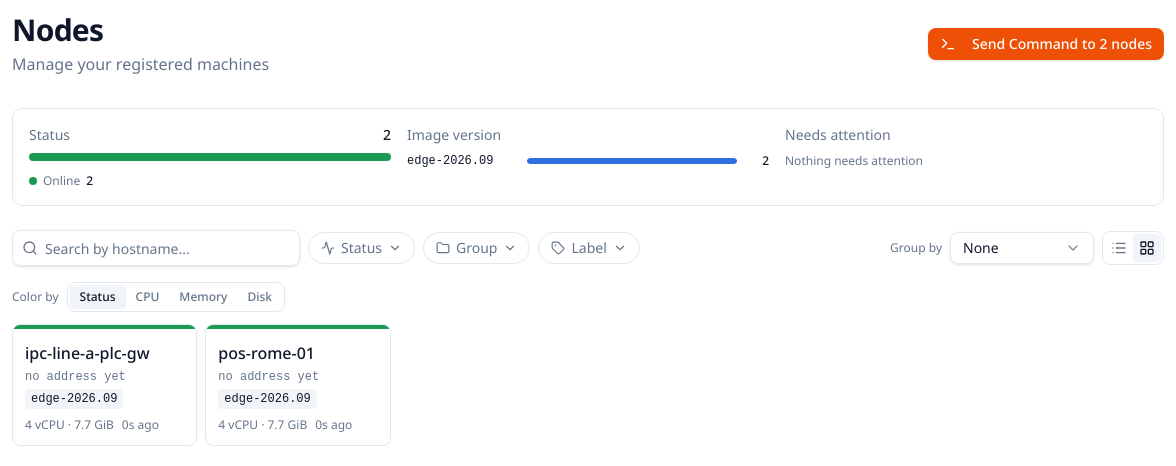
Test: node list with metrics › colors tiles by CPU with the danger tone at 91%
Click the radio button labelled "CPU" at (148,297), box [126, 285, 169, 309]
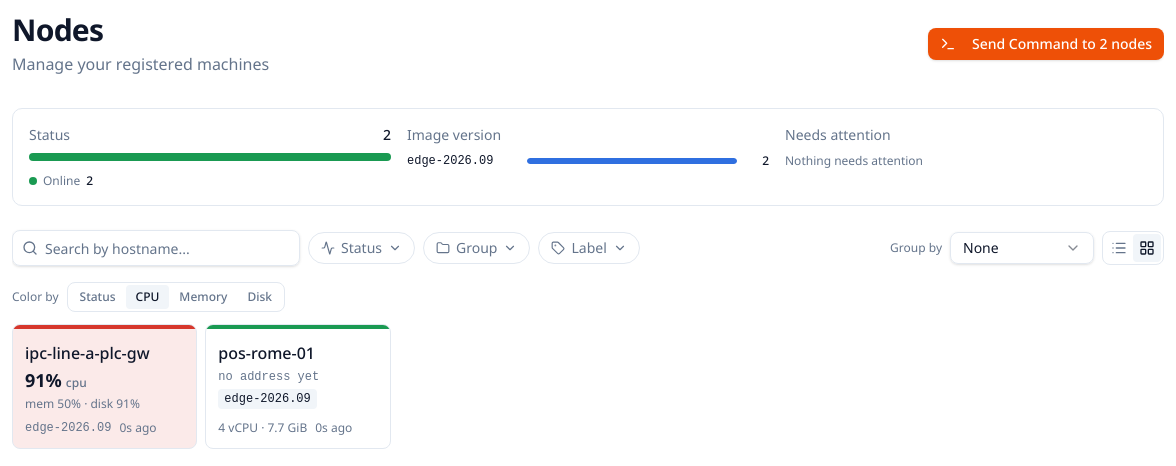
Expected: the text "91%" is shown, [25, 368, 62, 392]
